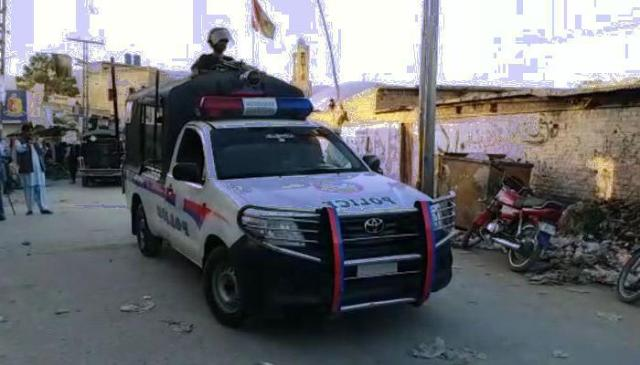police: (127, 86, 460, 337)
